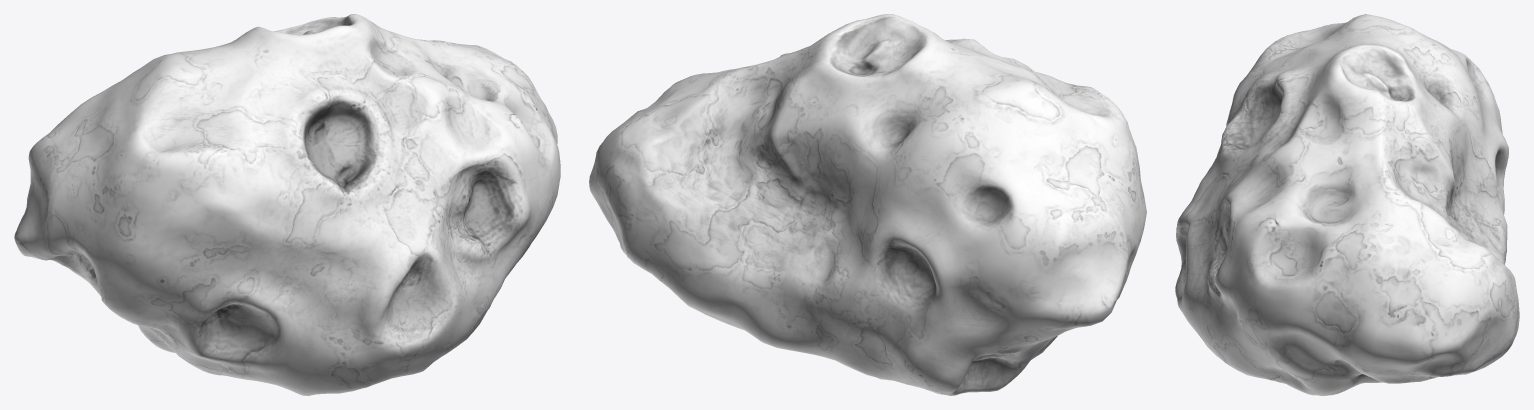
Rendered from Asteroid_2a.glb.
3 views of the same model, side by side, from view 1: azimuth 30°, elevation 25°; view 2: azimuth 150°, elevation 25°; view 3: azimuth 270°, elevation 25° (orthographic). The views are drawn at different scales.
Parts seen in each view (by area): view 1: Asteroid_2a; view 2: Asteroid_2a; view 3: Asteroid_2a.
Boxes of the visible parts, x1,y1,x2,y2 form: Asteroid_2a: [14, 14, 560, 395]; Asteroid_2a: [589, 14, 1146, 395]; Asteroid_2a: [1175, 14, 1519, 395].
Size of the model in its own units: 2.82 by 1.72 by 1.73.
1 material, 1 textured.
